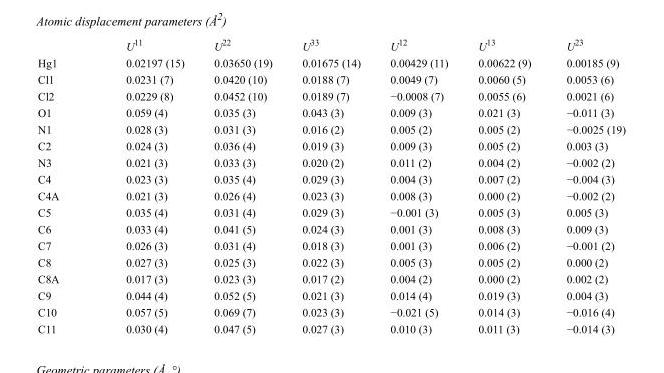table: (37, 36, 624, 334)
table column: (91, 36, 198, 334), (198, 36, 286, 334), (286, 36, 374, 334), (374, 36, 462, 334), (462, 36, 548, 334), (548, 36, 624, 334), (37, 36, 91, 334)
table column header: (37, 36, 624, 54)
table row: (37, 36, 624, 54), (37, 70, 624, 87), (37, 103, 624, 120), (37, 120, 624, 137), (37, 153, 624, 170), (37, 170, 624, 187), (37, 203, 624, 220), (37, 236, 624, 253), (37, 253, 624, 270), (37, 286, 624, 303), (37, 303, 624, 320), (37, 54, 624, 70), (37, 87, 624, 103), (37, 137, 624, 153), (37, 187, 624, 203), (37, 220, 624, 236), (37, 270, 624, 286), (37, 320, 624, 334)
